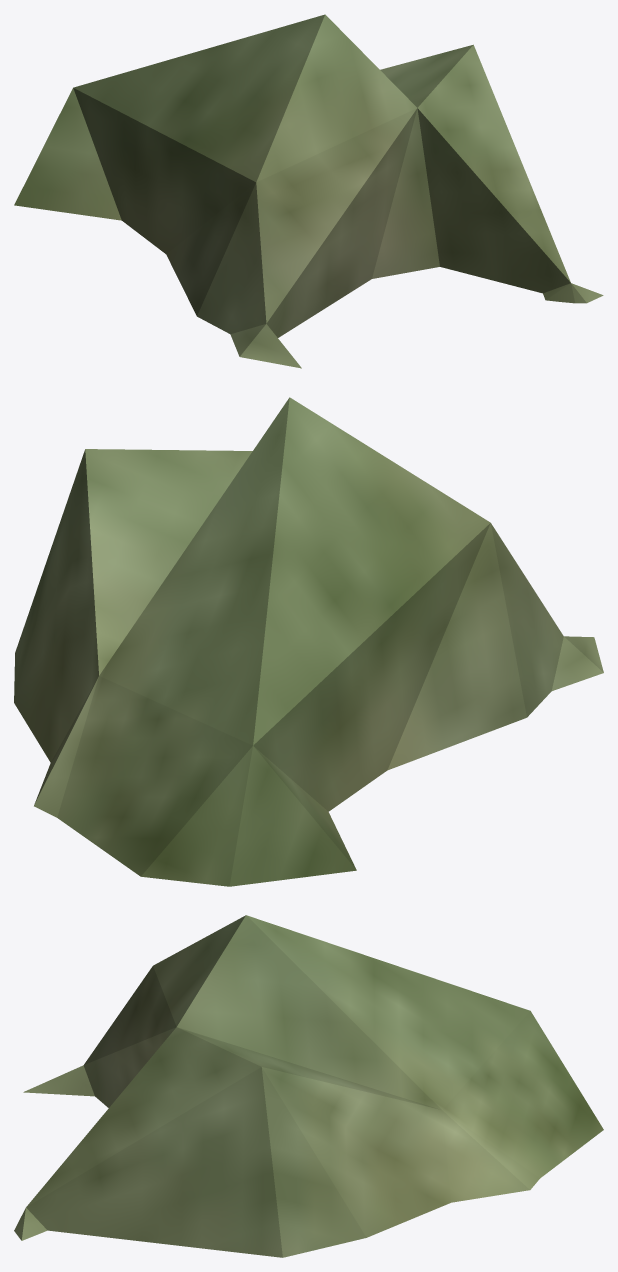
3 renders of one model, top to bottom at view 1: azimuth 30°, elevation 25°; view 2: azimuth 150°, elevation 25°; view 3: azimuth 270°, elevation 25°, orthographic. The views are drawn at different scales.
Bounding box in the file's own units: 1.79 × 1.07 × 2.35.
1 material, 1 textured.
